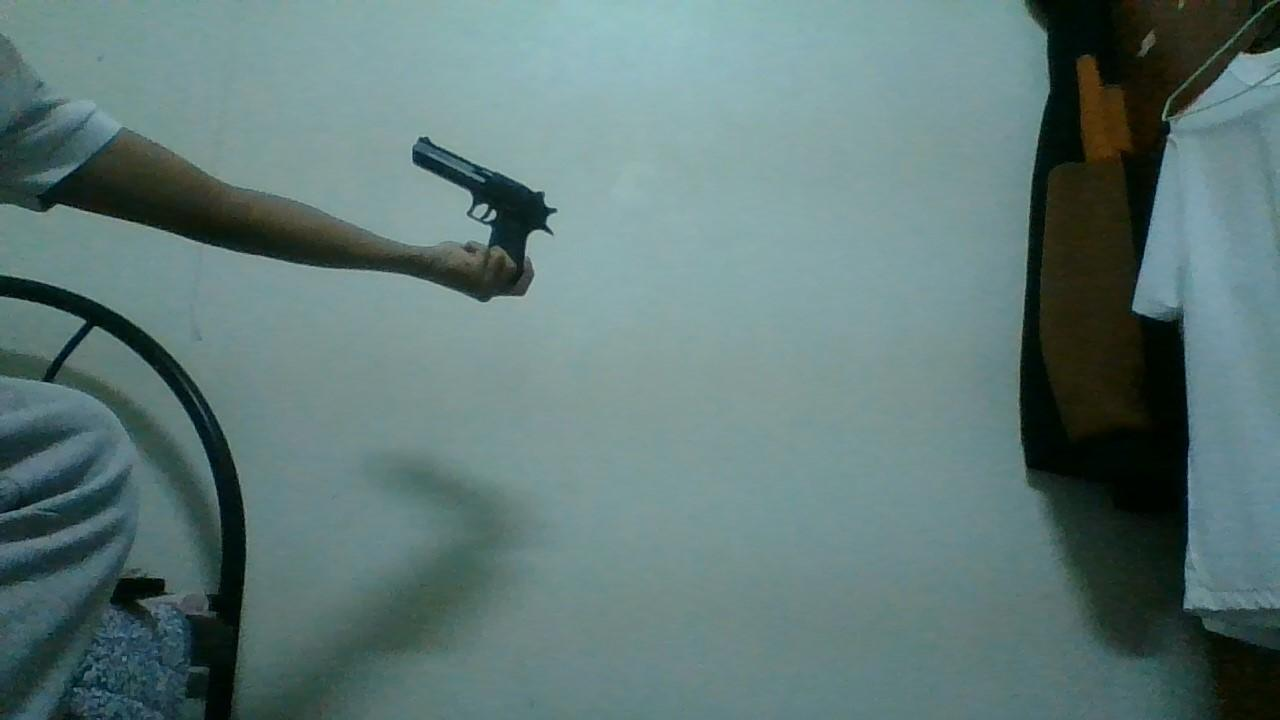weapon: (408, 132, 562, 292)
